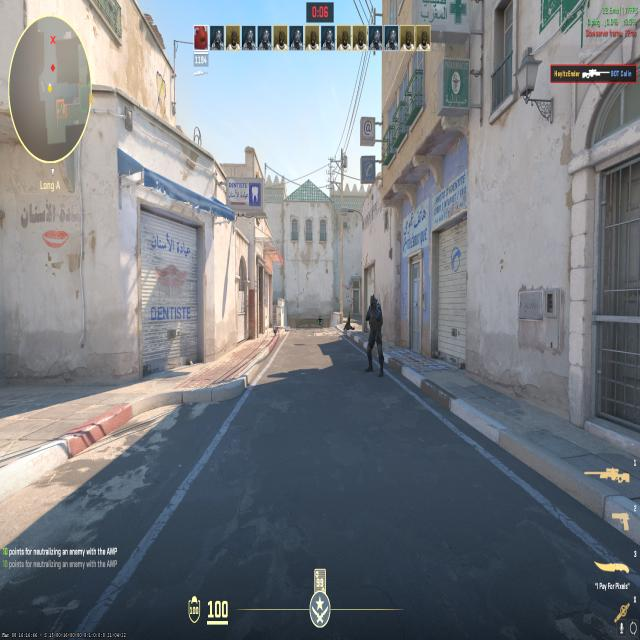ct: (358, 286, 389, 378)
